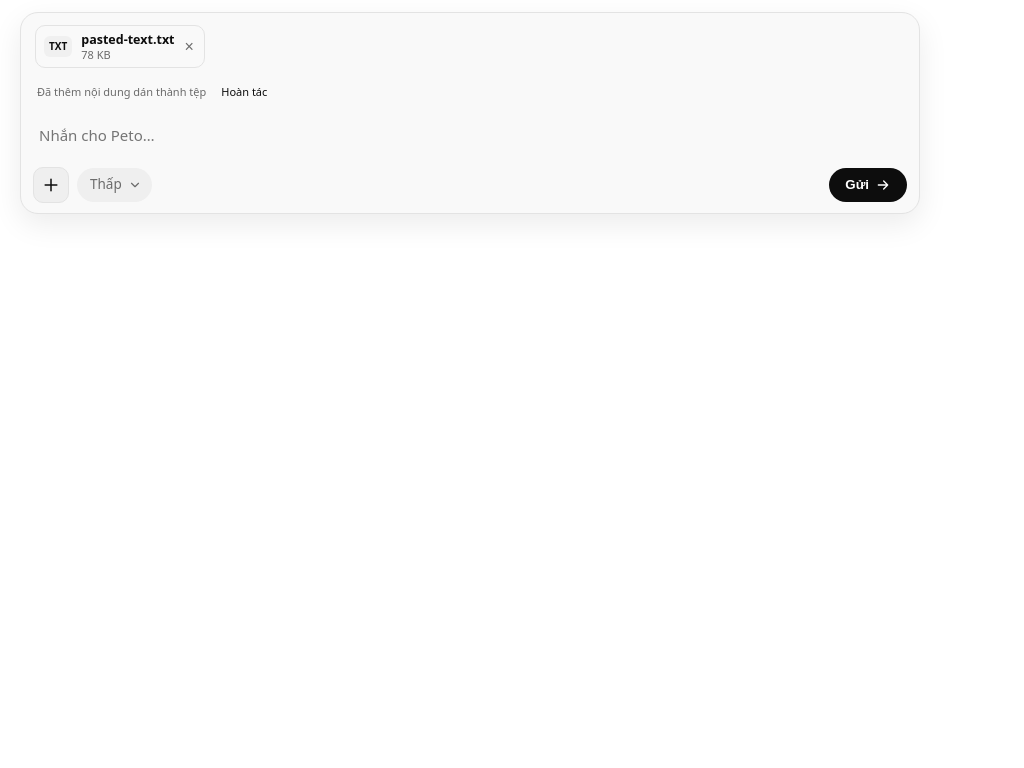
Test case: long paste conversion › previews converted text as escaped local content, removes the file, and clears Undo
This screenshot has width=1024, height=768.
Click the button with aria-label "Xem pasted-text.txt". click: coordinates (109, 47)
box: x1=44 y1=32 x2=174 y2=61
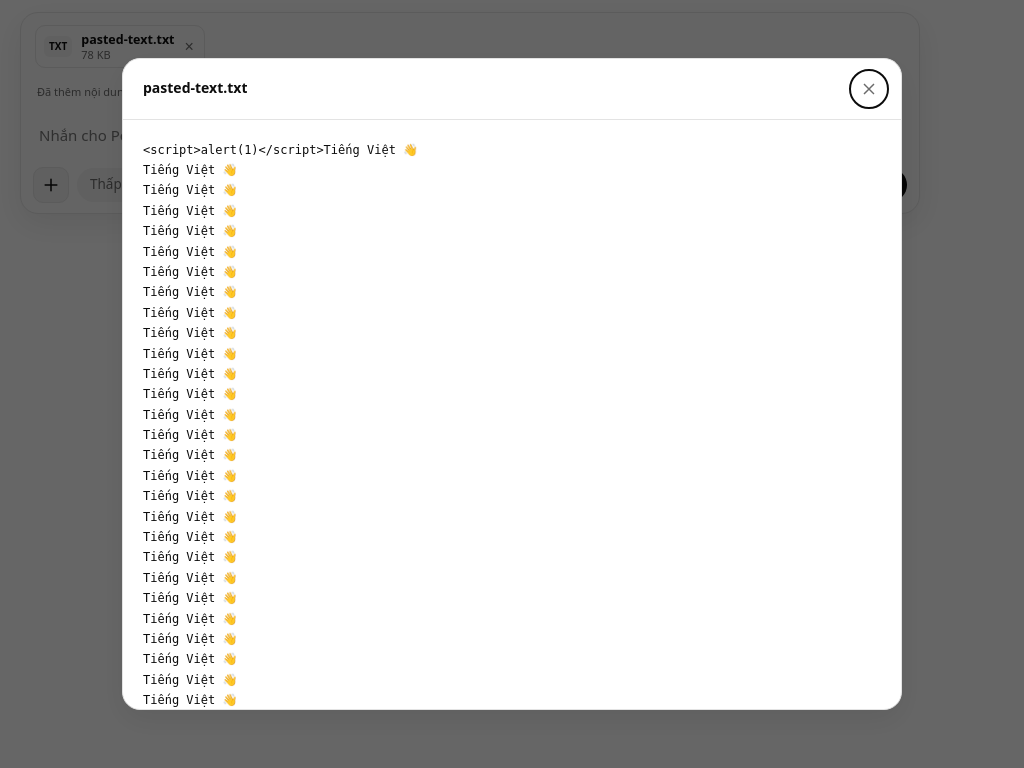
Click the button named "Đóng xem tệp". click: coordinates (869, 89)
box: x1=849 y1=69 x2=889 y2=109
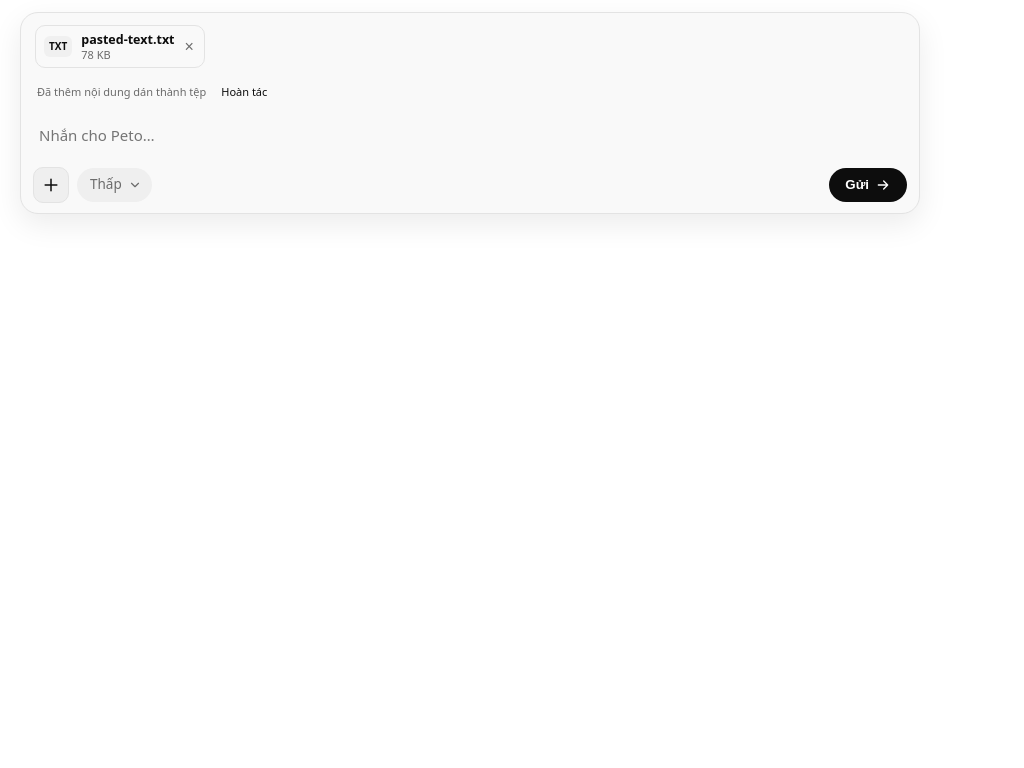
Check: the dialog is gone
Click the button named "Gỡ pasted-text.txt". click: coordinates (189, 47)
box: x1=182 y1=39 x2=196 y2=55
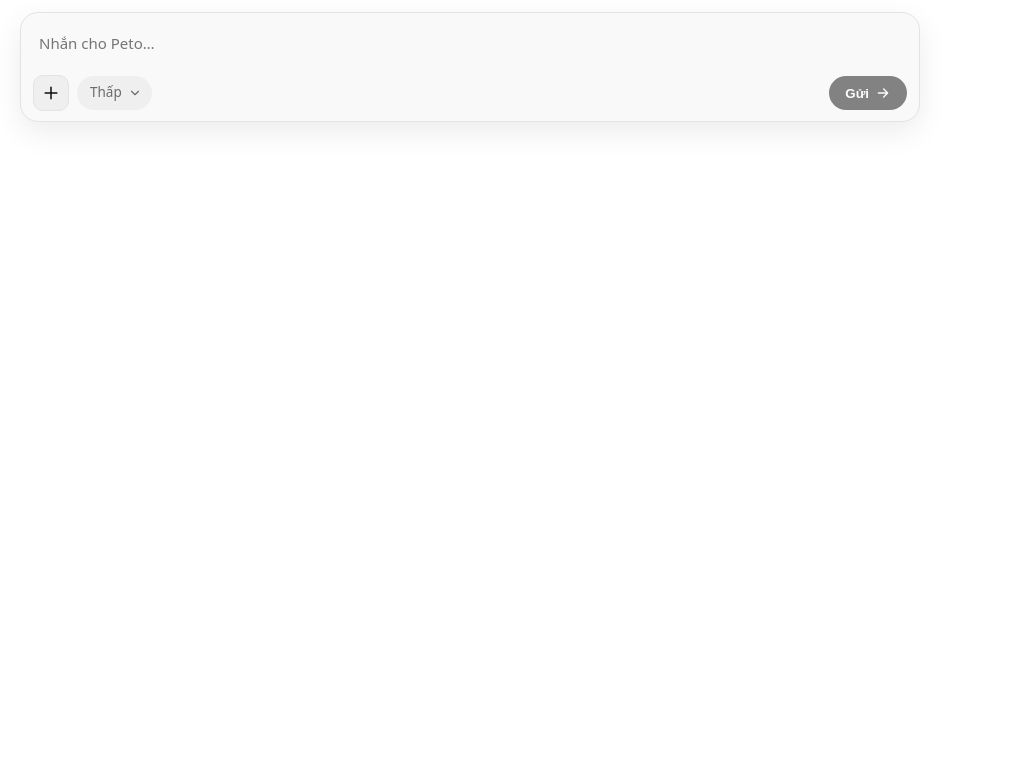
Check: the button "Hoàn tác" is gone
